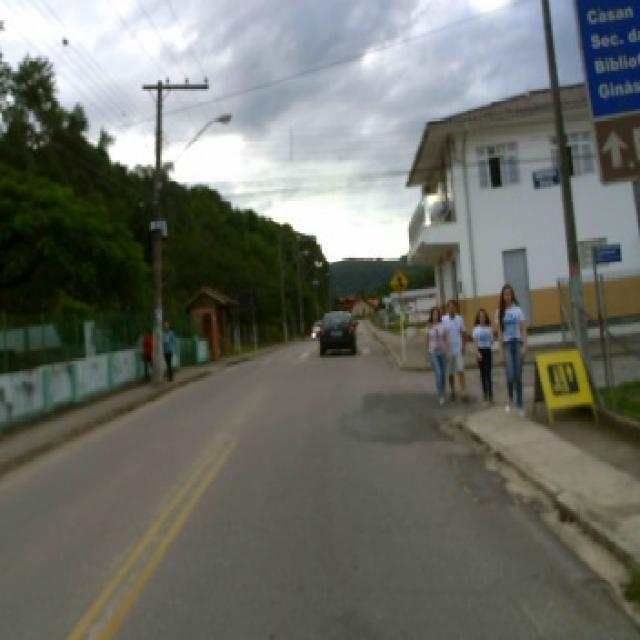Poth-hole: (445, 454, 480, 504), (428, 420, 456, 440), (466, 449, 478, 460)
